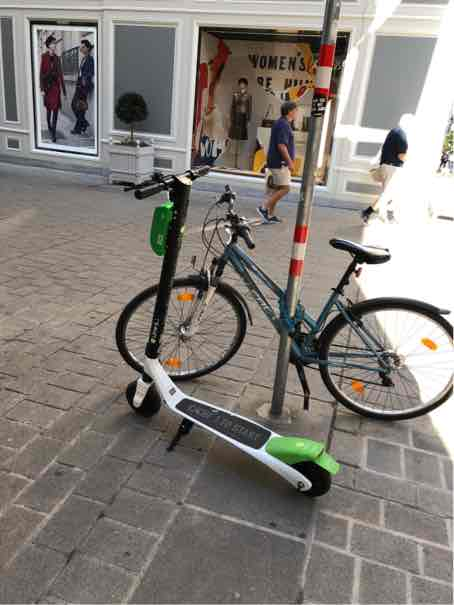scooter: (107, 150, 341, 504)
